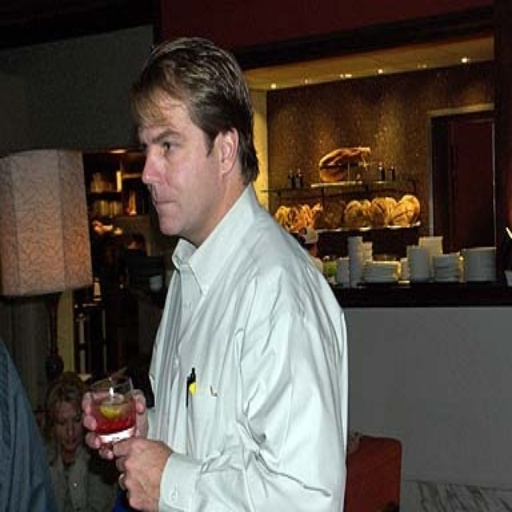hand: (78, 385, 149, 462), (109, 428, 166, 497)
